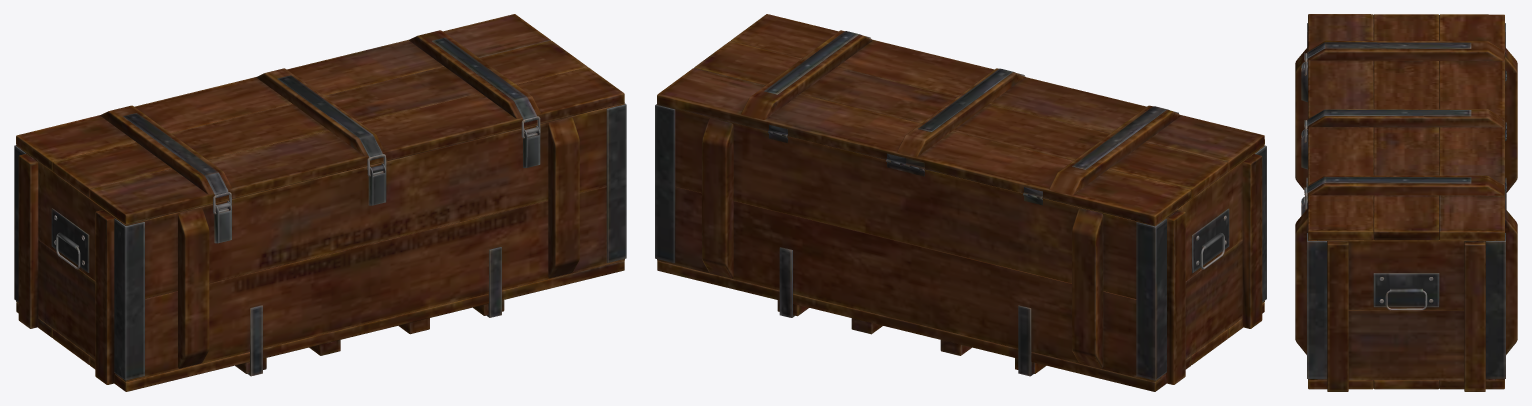
The model's file is loot.glb.
The picture shows the model from 3 angles, left to right: view 1: azimuth 30°, elevation 25°; view 2: azimuth 150°, elevation 25°; view 3: azimuth 270°, elevation 25°; orthographic projection. The views are drawn at different scales.
Parts seen in each view (by area): view 1: wooden_military_crate, wooden_military_crate_lid; view 2: wooden_military_crate, wooden_military_crate_lid; view 3: wooden_military_crate_lid, wooden_military_crate.
Part boxes in pixels (x1,y1,x2,y2): wooden_military_crate: [14, 103, 626, 391]; wooden_military_crate_lid: [16, 14, 624, 224]; wooden_military_crate: [655, 104, 1266, 391]; wooden_military_crate_lid: [657, 14, 1264, 225]; wooden_military_crate_lid: [1304, 14, 1506, 240]; wooden_military_crate: [1295, 23, 1517, 391].
Bounding box in the file's own units: 1.24 × 0.4774 × 0.5198.
Materials: 4 (4 with a texture image).
